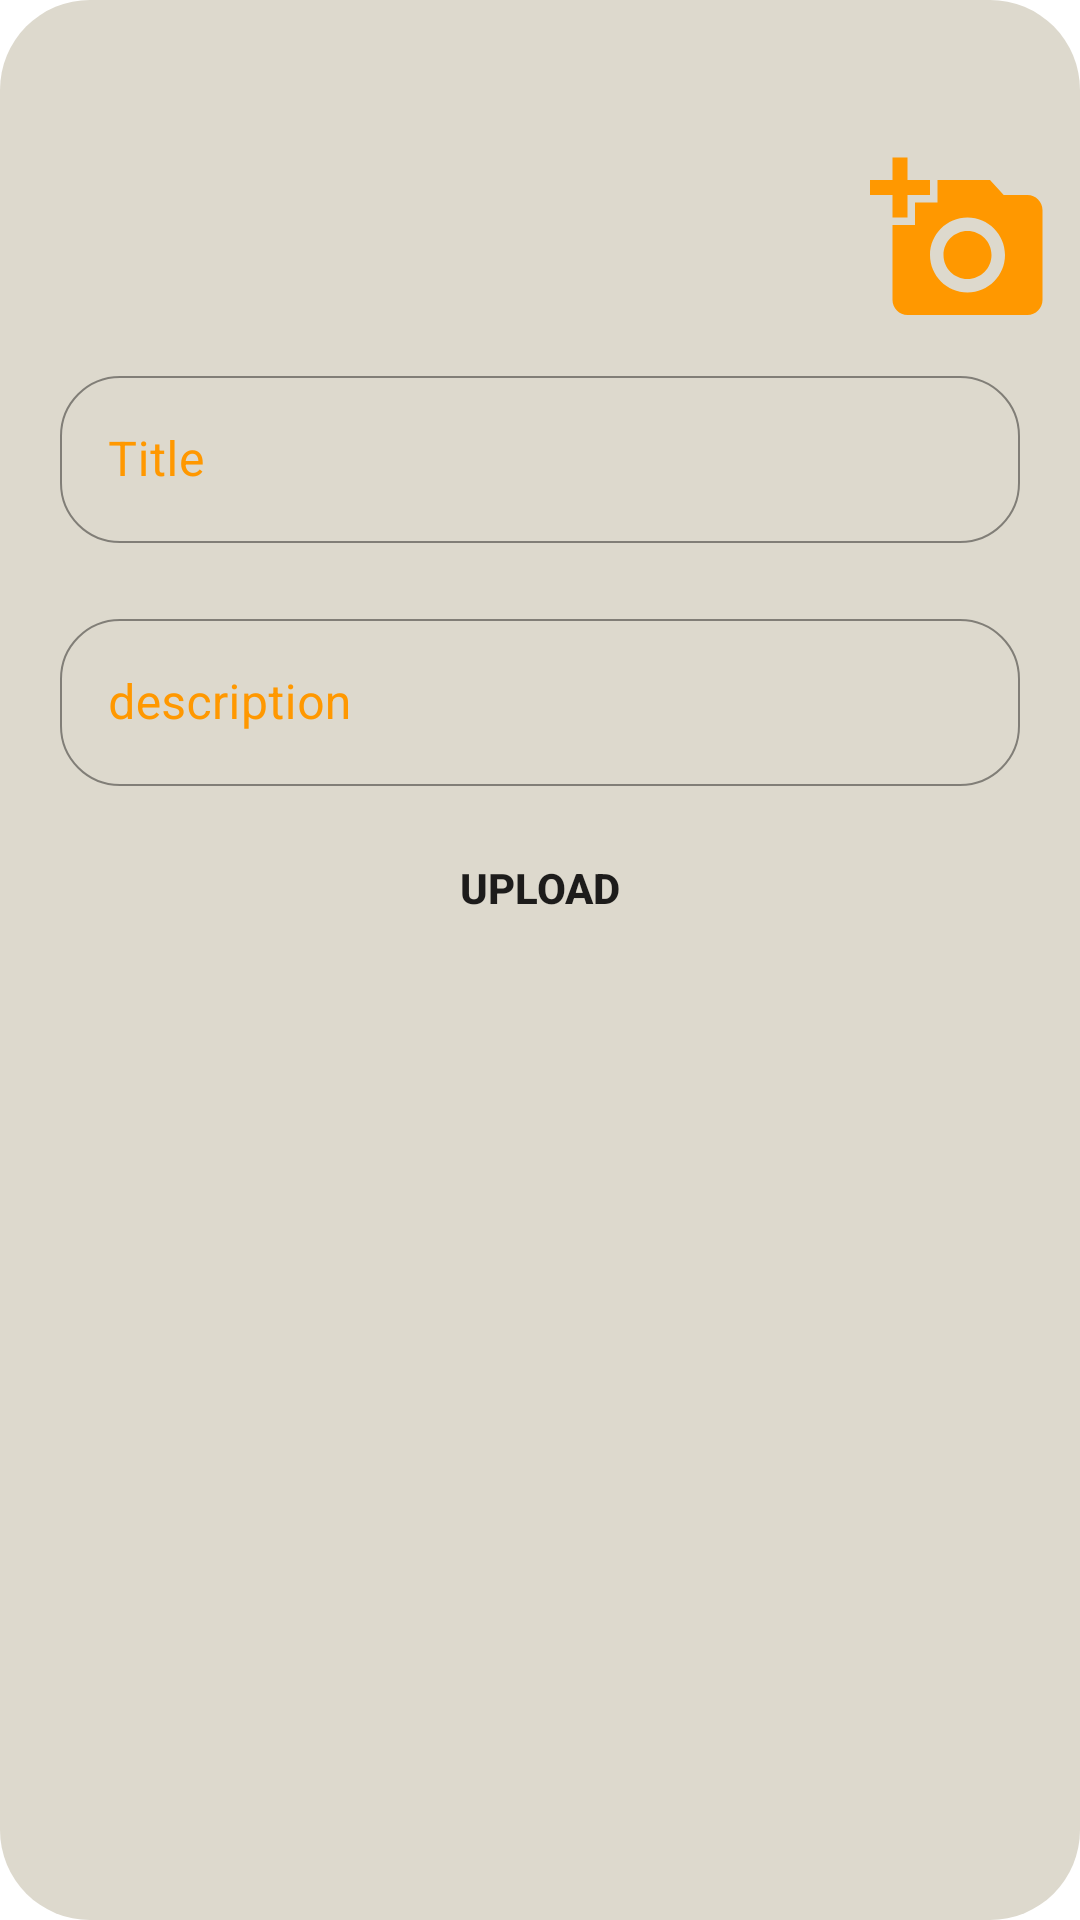

Screen size 1080px×1920px. Icon name, then its box in pixels as bbox=[x1, y1, x2, y2]:
add photo: bbox=[870, 157, 1043, 315]
